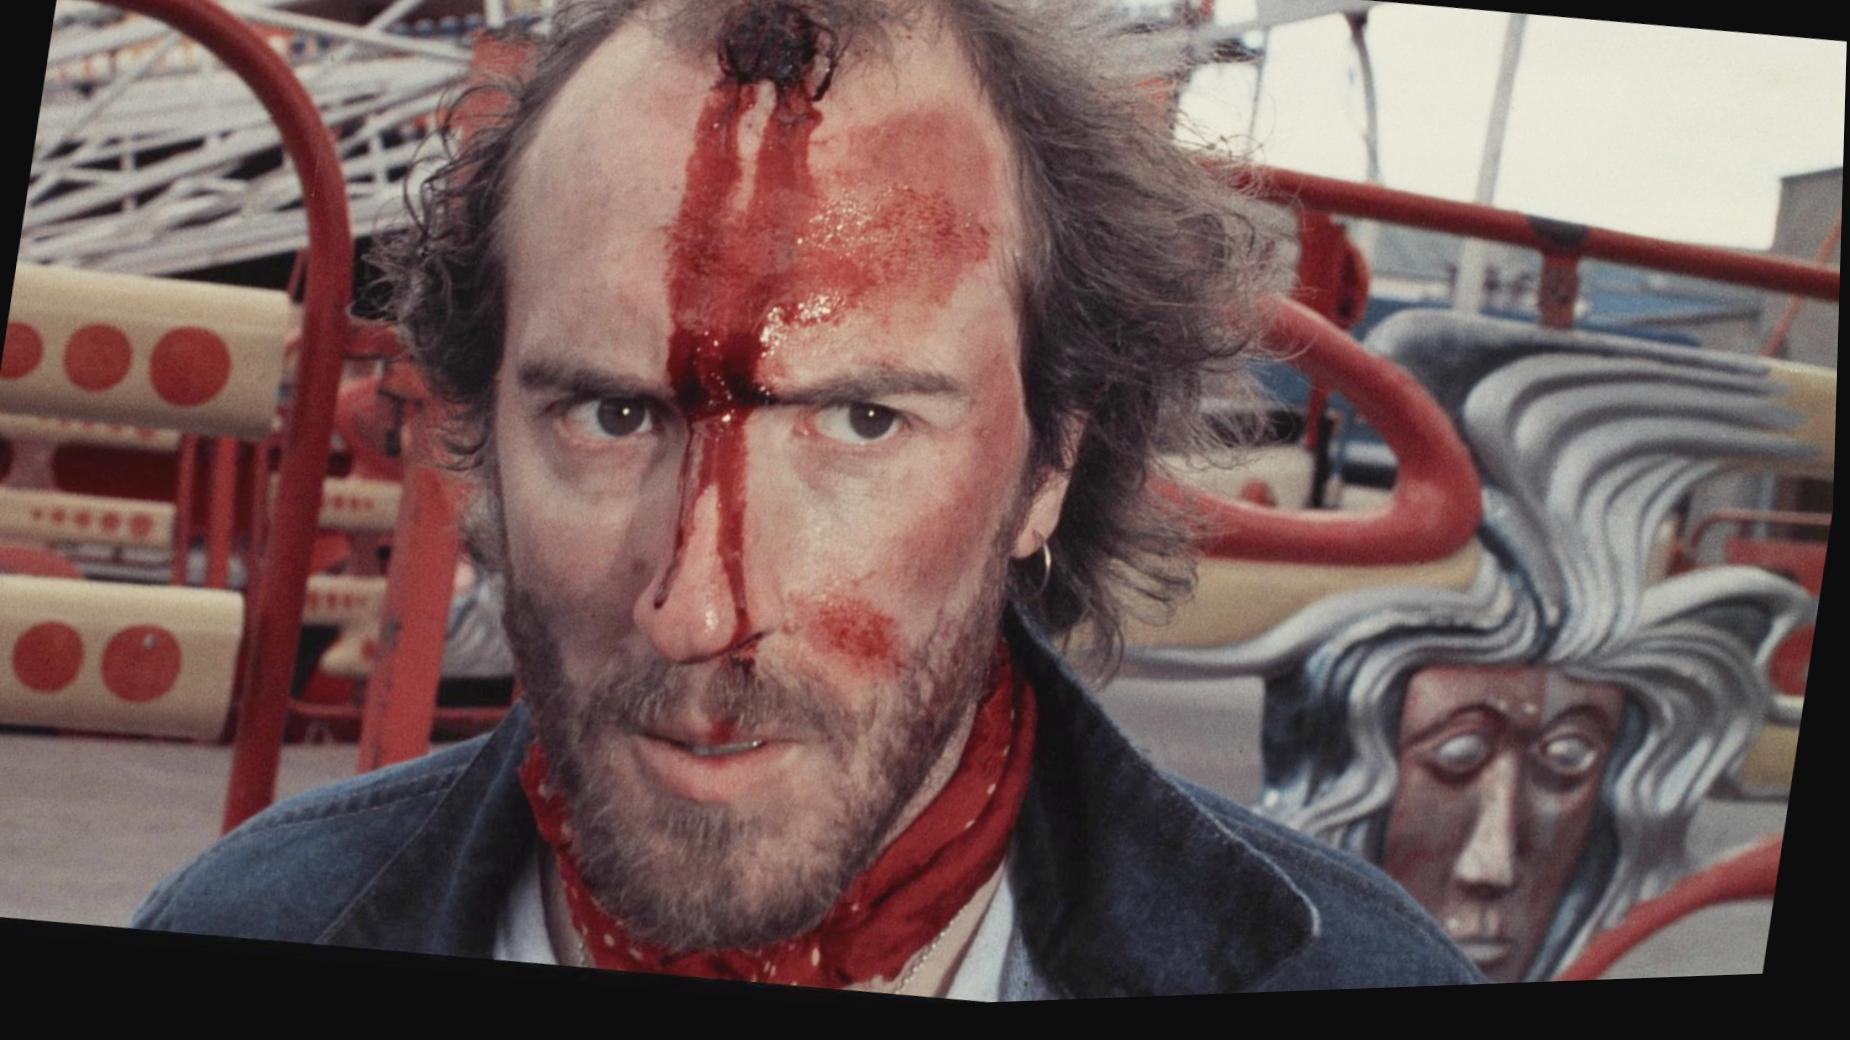Fire: (657, 80, 1014, 632), (823, 306, 1033, 682)
